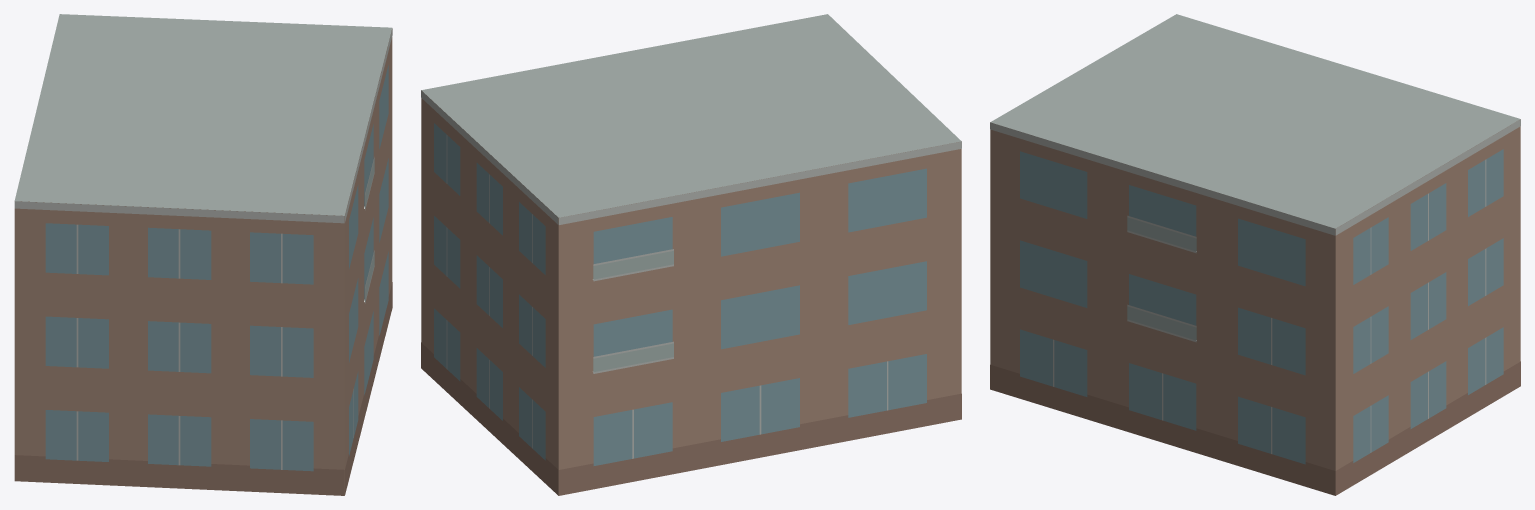
The model's file is survey-upis-32706681.glb.
3 views of the same model, side by side, from view 1: azimuth 30°, elevation 25°; view 2: azimuth 150°, elevation 25°; view 3: azimuth 270°, elevation 25° (orthographic). The views are drawn at different scales.
Parts seen in each view (by area): view 1: survey-upis-32706681.tmp; view 2: survey-upis-32706681.tmp; view 3: survey-upis-32706681.tmp.
Part boxes in pixels (left/top/right/bottom): survey-upis-32706681.tmp: left=14, top=14, right=392, bottom=495; survey-upis-32706681.tmp: left=421, top=14, right=961, bottom=495; survey-upis-32706681.tmp: left=990, top=14, right=1520, bottom=495.
Bounding box in the file's own units: 15.78 × 9.15 × 16.48.
